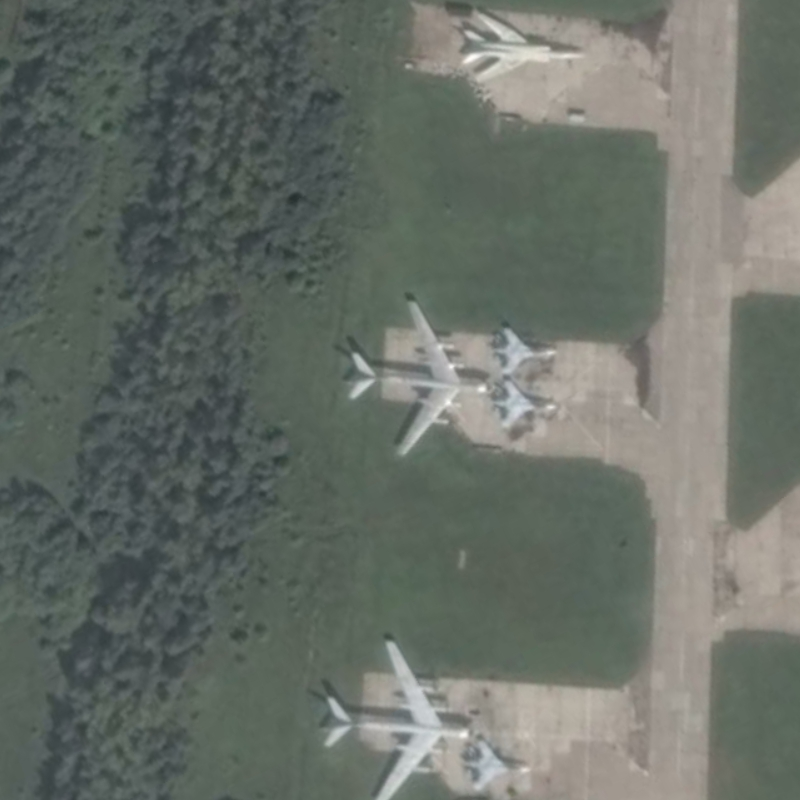A1: (462, 737, 533, 793), (492, 379, 560, 430), (493, 325, 559, 377)
A12: (460, 10, 588, 85)
A17: (322, 638, 480, 800), (345, 297, 497, 459)
